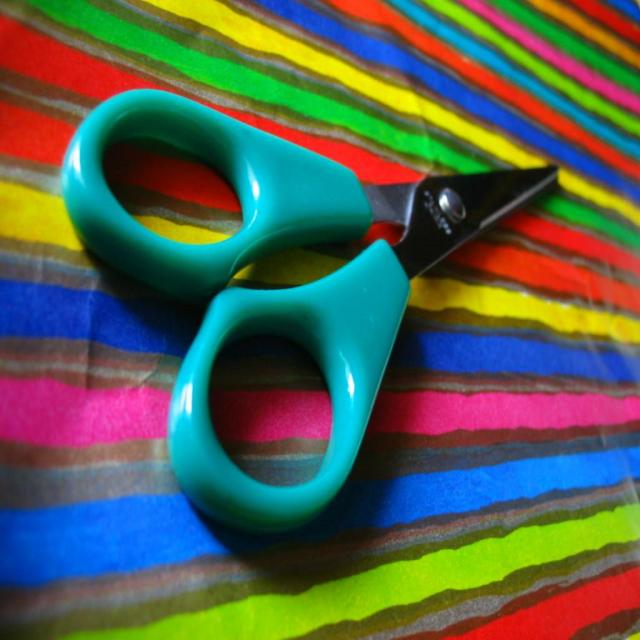scissor: (46, 72, 565, 570)
